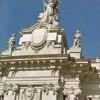Statue: (18, 0, 81, 56)
